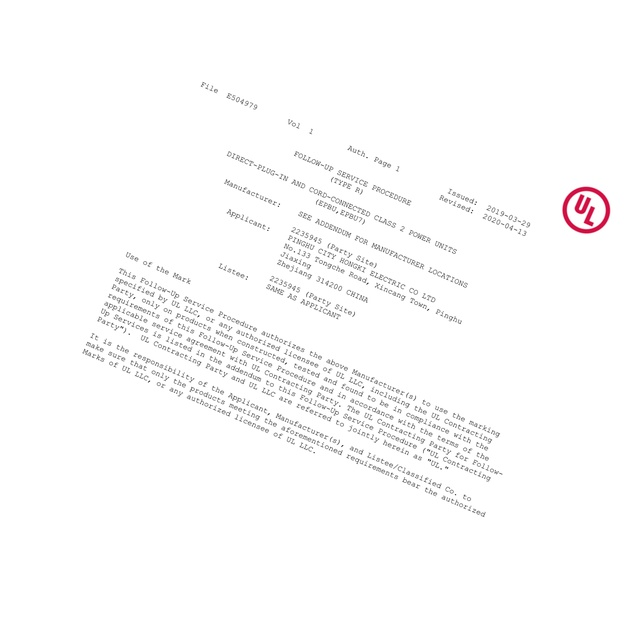ul: (562, 186, 610, 233)
